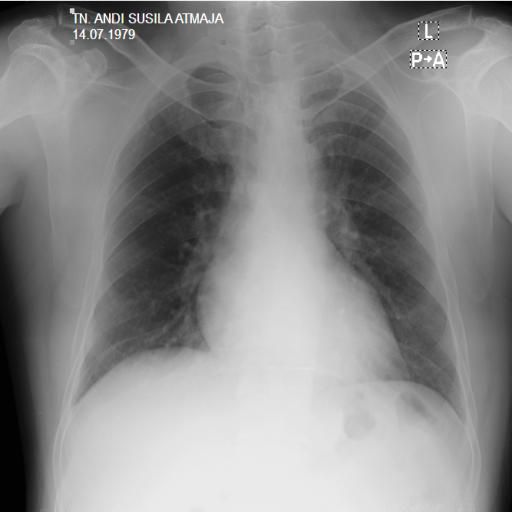kardiomegali: (63, 45, 471, 435)
